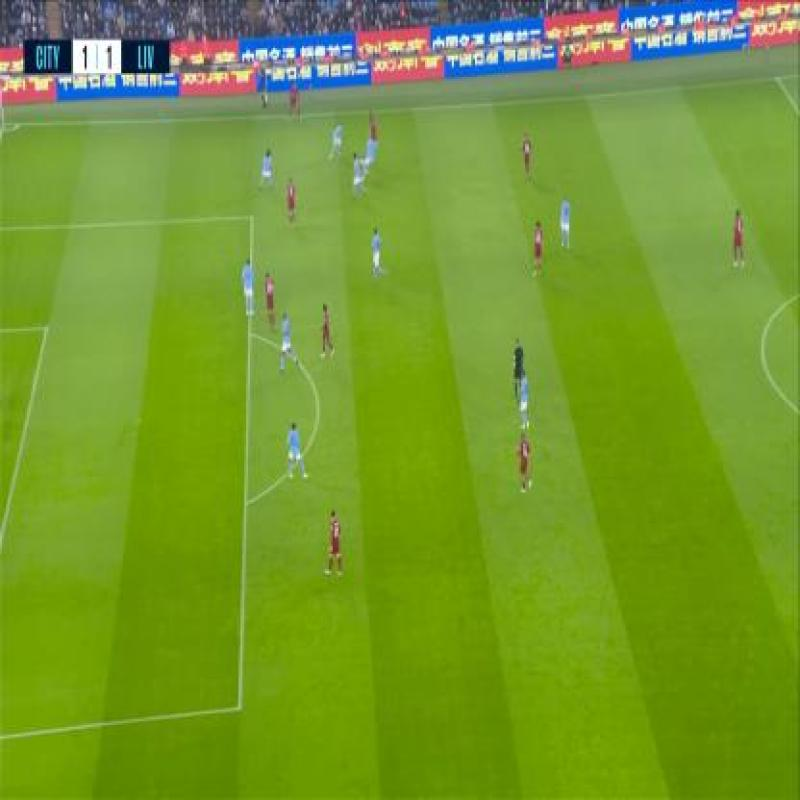1: (0, 118, 12, 138)
10: (242, 321, 258, 348)
11: (236, 484, 260, 524)
12: (229, 688, 250, 729)
13: (769, 66, 787, 94)
7: (38, 320, 56, 340)
9: (244, 206, 262, 231)
c: (744, 338, 790, 400)
